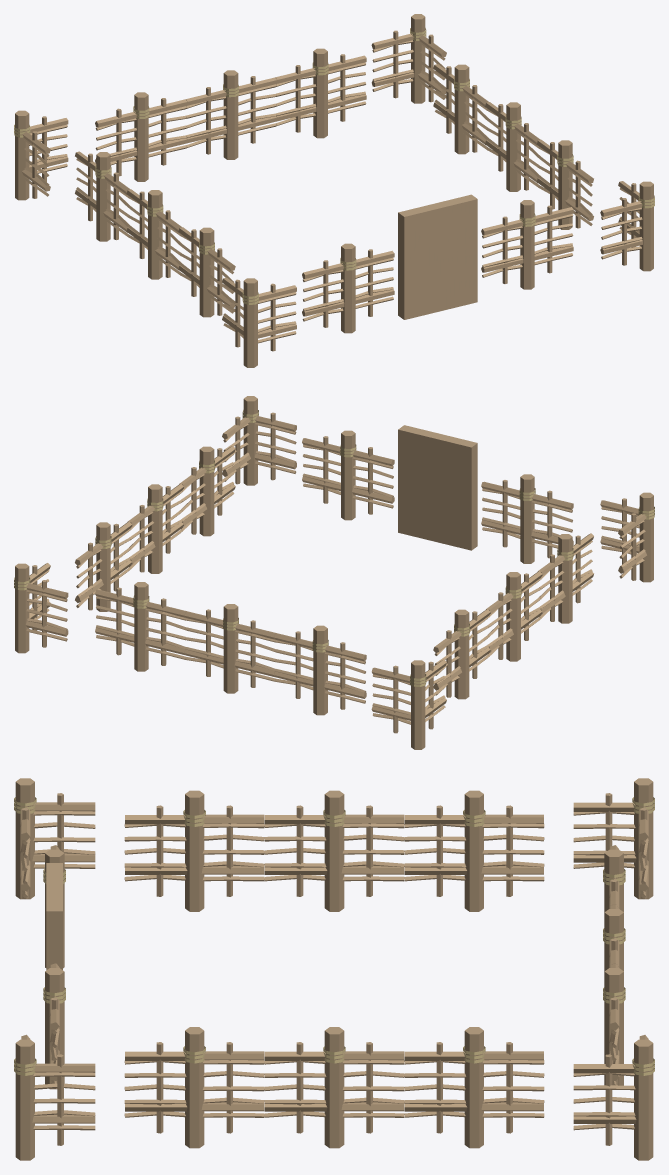
The model's file is building_pen_half.glb.
3 renders of one model, top to bottom at view 1: azimuth 30°, elevation 25°; view 2: azimuth 150°, elevation 25°; view 3: azimuth 270°, elevation 25°, orthographic. The views are drawn at different scales.
Visible parts, largest first — view 1: building_pen_half; view 2: building_pen_half; view 3: building_pen_half.
Boxes of the visible parts, x1,y1,x2,y2 form: building_pen_half: [14, 14, 654, 367]; building_pen_half: [14, 396, 654, 749]; building_pen_half: [14, 778, 654, 1160].
Size of the model in its own units: 4.58 by 1.1 by 4.58.
